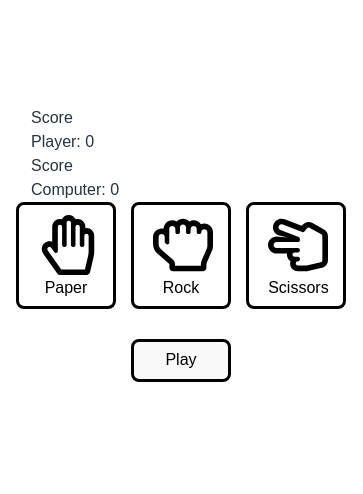
Scenario: Results › should render 2 seconds on the screen after we wait 1 second
Click the button "Rock".
click(181, 256)  # box [131,202,231,309]
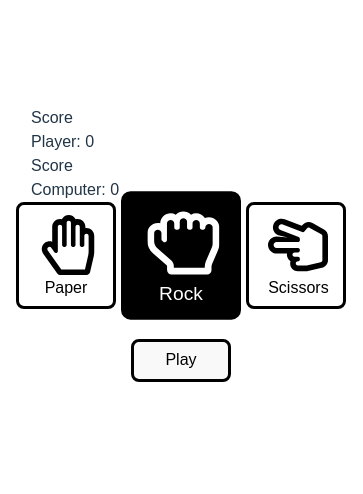
Click the button "Play".
click(181, 360)  # box [131,339,231,382]
Wait 1000 ms
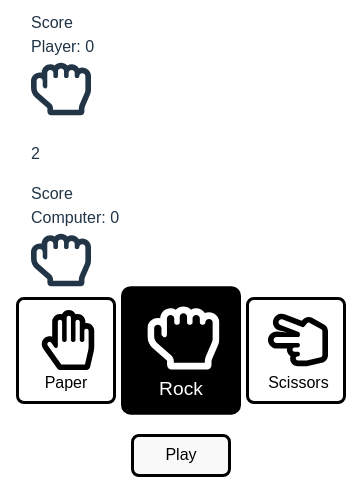
Result: the text with test id "timer" reads "2" at [31,145,40,162]
